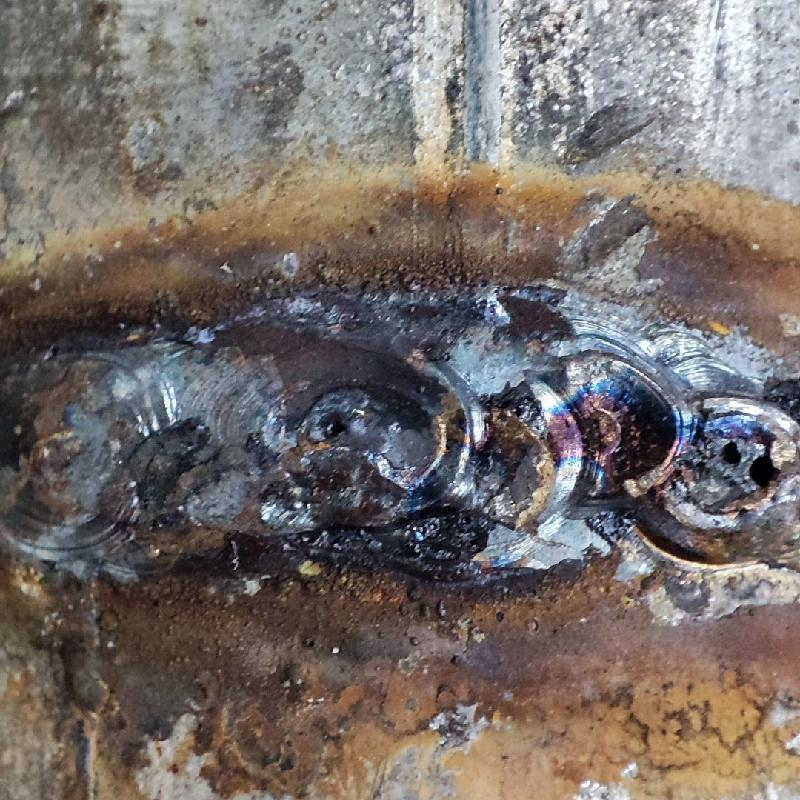Surface_pores: (711, 429, 788, 497), (301, 398, 363, 455)
crater: (159, 318, 799, 552)
